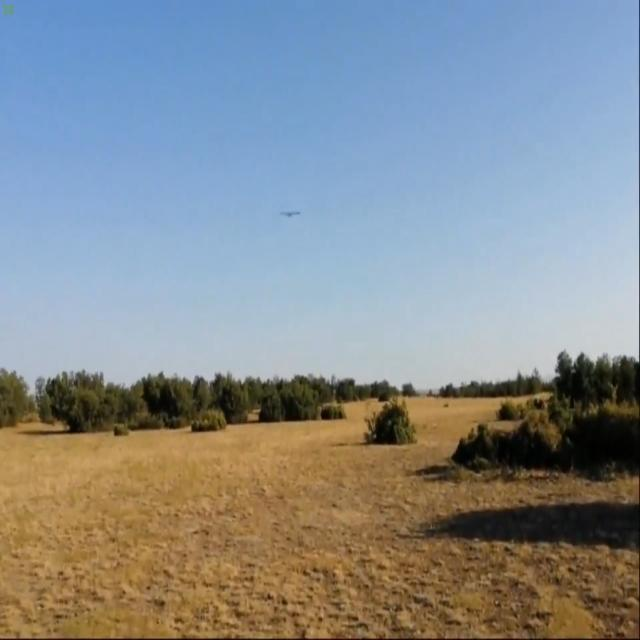UAV: (278, 204, 320, 241)
